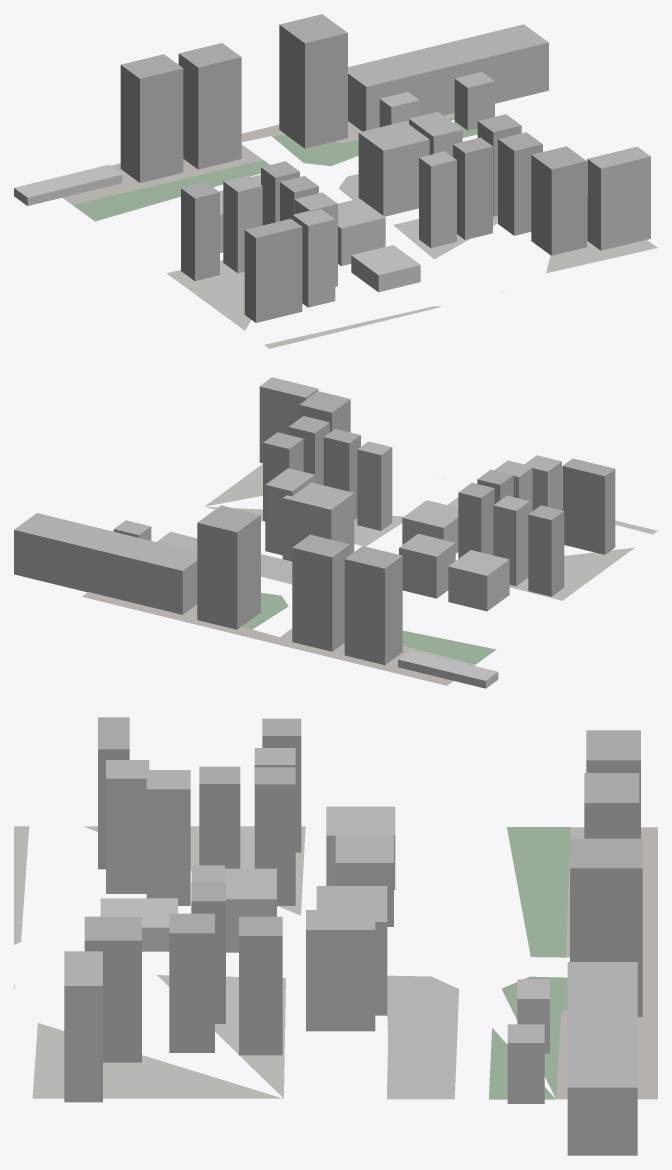
The model's file is 117_84_mid.glb.
The picture shows the model from 3 angles, top to bottom: view 1: azimuth 30°, elevation 25°; view 2: azimuth 150°, elevation 25°; view 3: azimuth 270°, elevation 25°; orthographic projection. The views are drawn at different scales.
Bounding box in the file's own units: 646 × 128 × 500.
